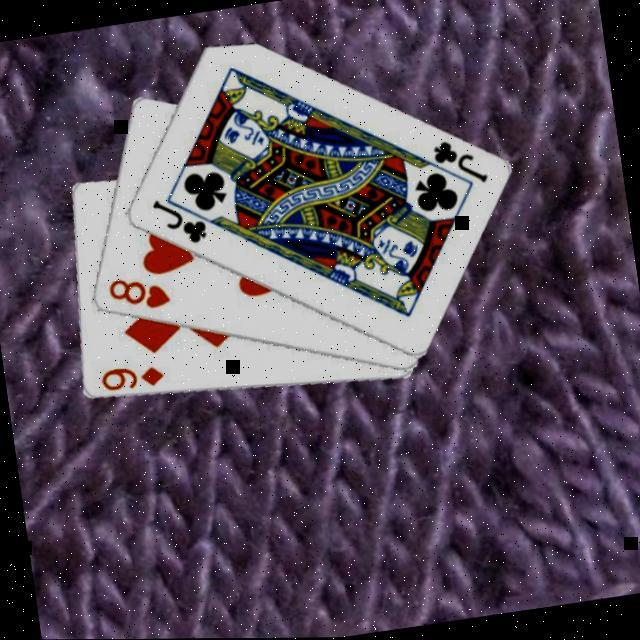8H: (102, 268, 173, 317)
9D: (95, 358, 166, 396)
JC: (426, 132, 491, 194), (147, 190, 210, 251)
